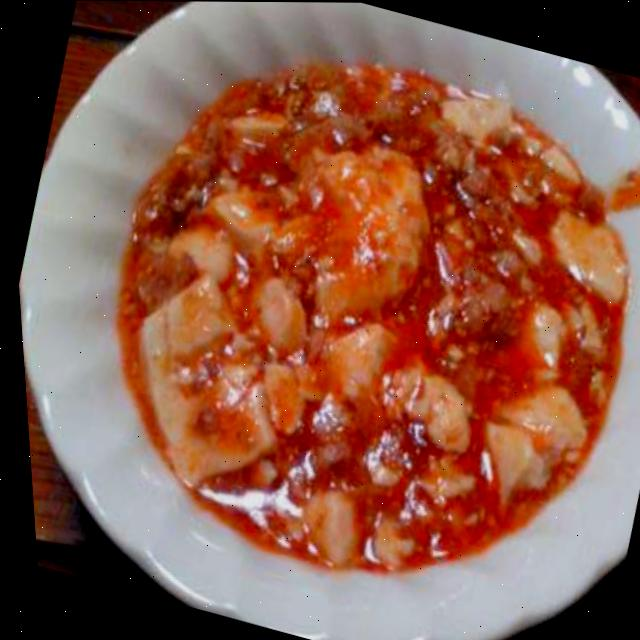豆腐料理: (103, 1, 640, 640)
